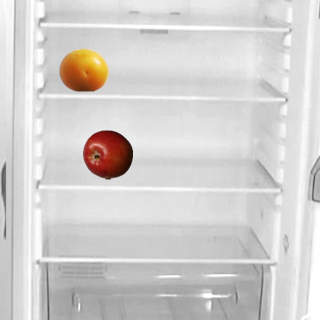Apple Braeburn: (82, 129, 132, 179)
Cherry Wax Yellow: (58, 44, 108, 94)
